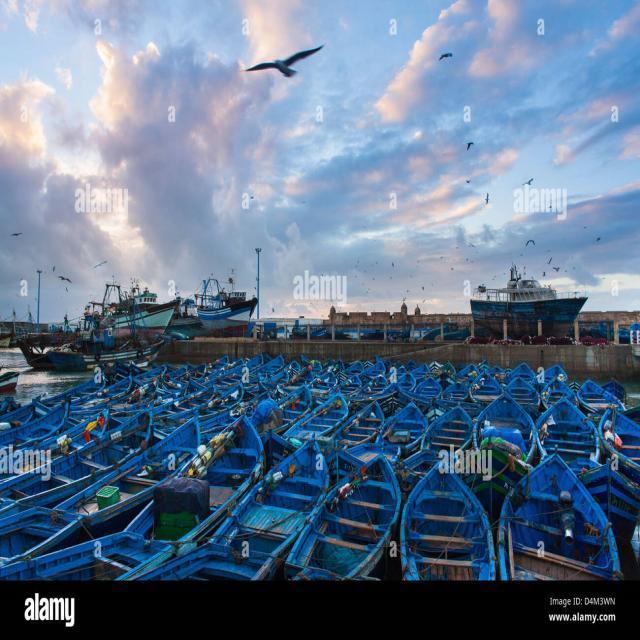bird: (240, 38, 326, 90)
